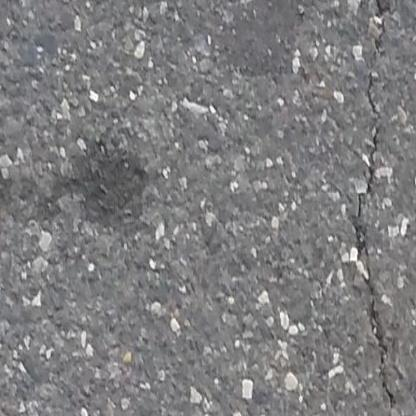Cracks: (349, 0, 398, 416)
